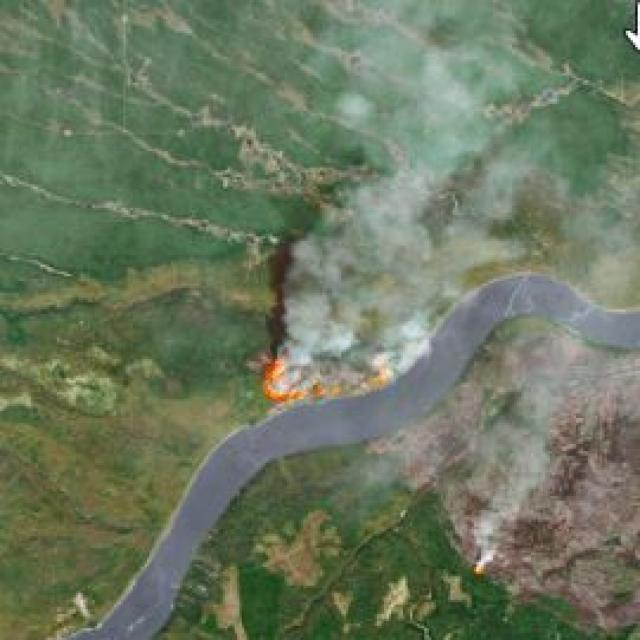Fire: (260, 361, 316, 411)
Smoke: (275, 80, 564, 390)
